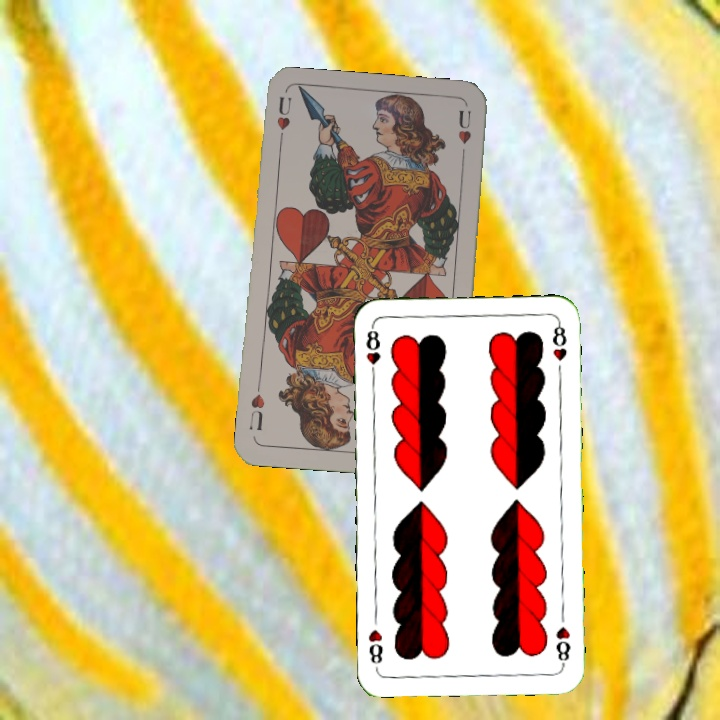H8: (361, 322, 384, 381), (551, 622, 574, 668)
HU: (272, 92, 293, 150)
